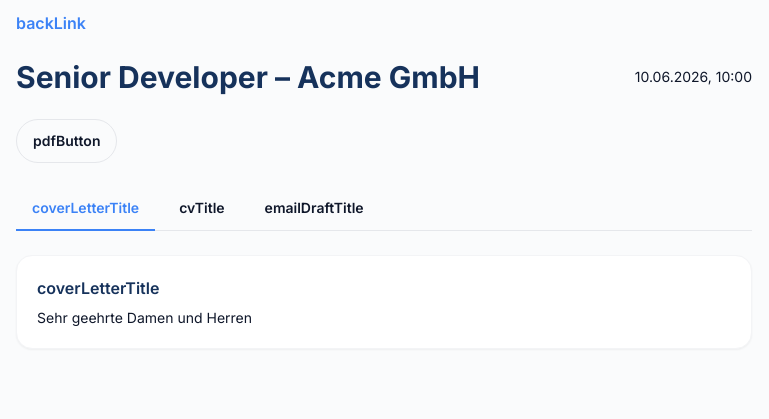
Test: ApplicationHistoryDetail › zeigt nach Klick auf den E-Mail-Entwurf-Tab den eigenständigen emailBody an
Expected: the heading "Senior Developer – Acme GmbH" is shown, [16,59,480,95]
Click the tab "emailDraftTitle": x=314, y=209 [249,187,380,231]
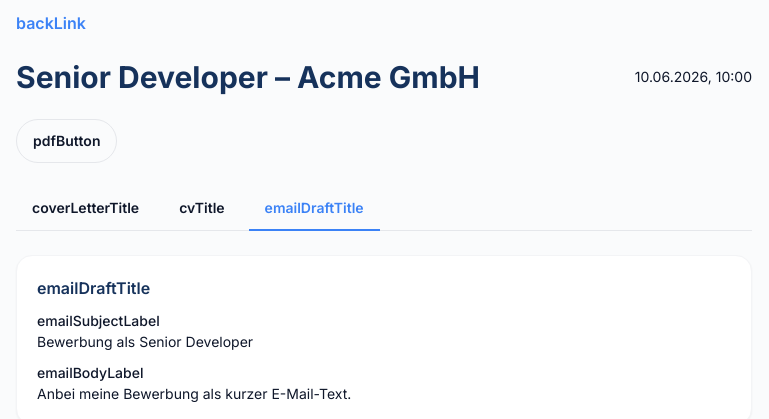
Expected: the text "Bewerbung als Senior Developer" is shown, [37,333,253,350]
Expected: the text "Anbei meine Bewerbung als kurzer E-Mail-Text." is shown, [37,385,351,402]
